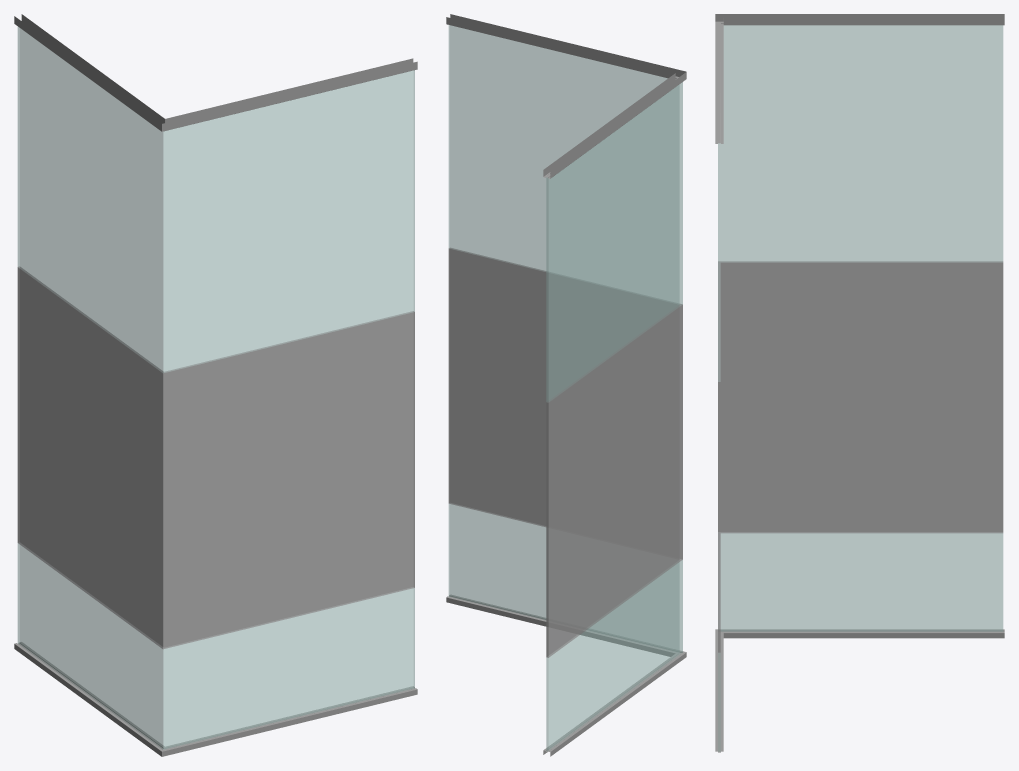
Rendered from Glass_panel_corner_geo.fbx.
3 renders of one model, left to right at view 1: azimuth 30°, elevation 25°; view 2: azimuth 150°, elevation 25°; view 3: azimuth 270°, elevation 25°, orthographic. The views are drawn at different scales.
Visible parts, largest first — view 1: Glass_panel_corner_geo; view 2: Glass_panel_corner_geo; view 3: Glass_panel_corner_geo.
Part boxes in pixels (<box>): Glass_panel_corner_geo: <box>14,14,417,756</box>; Glass_panel_corner_geo: <box>446,14,686,756</box>; Glass_panel_corner_geo: <box>715,14,1004,752</box>.
Size of the model in its own units: 102 by 240 by 102.
